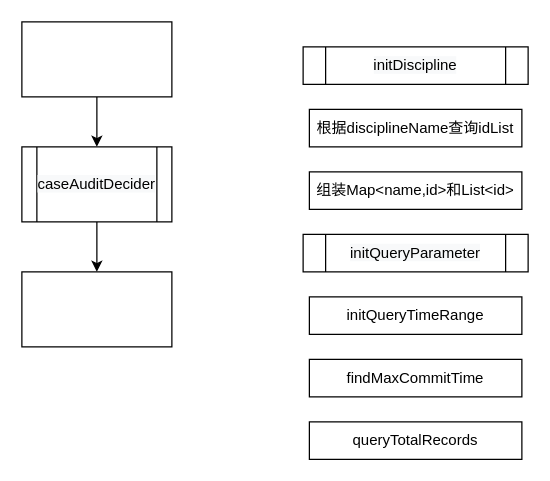
Image size: 550x481. Some labels were removed from this diagram. Here are the shapes that lost their labels. From the top down, the box of each, then its label:
(21, 21, 172, 97): dummyStep
(21, 271, 172, 347): processCaseAudit
